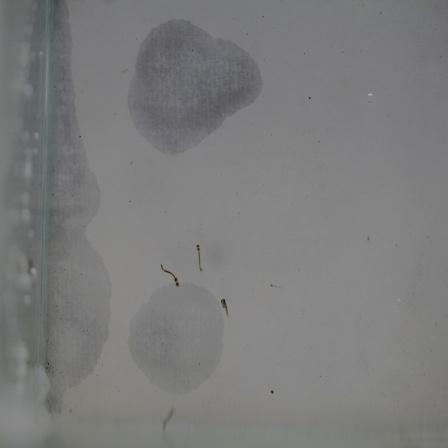Jentik-Nyamuk: (158, 259, 181, 288), (217, 292, 235, 323), (193, 242, 207, 275)
